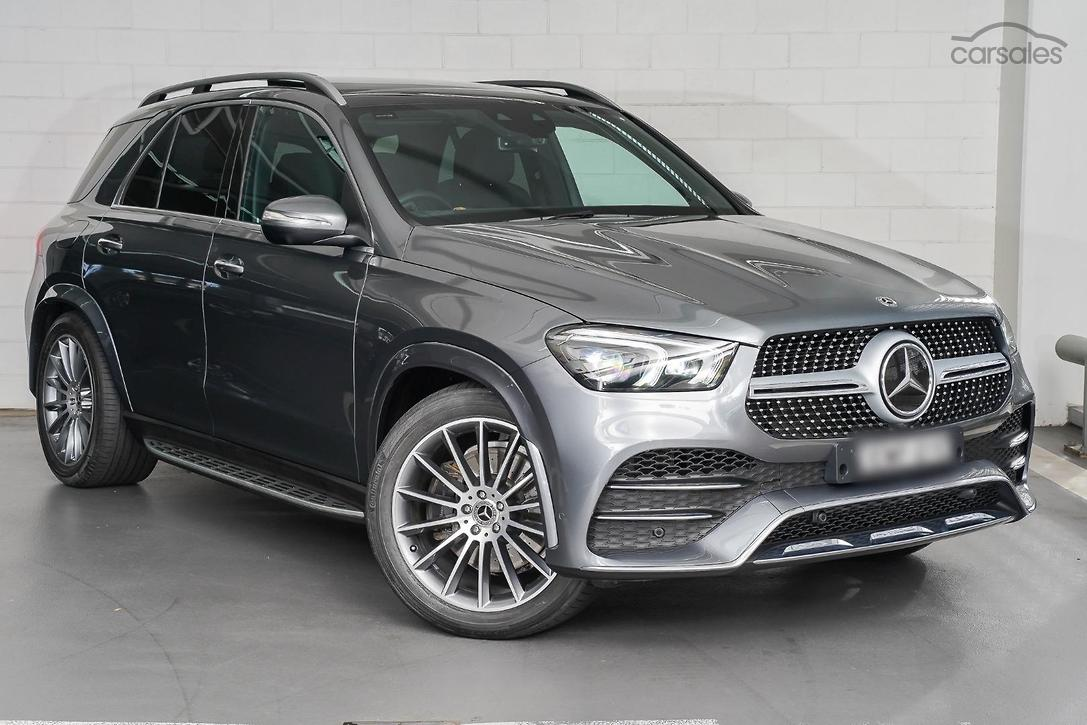car: (21, 66, 1042, 644)
